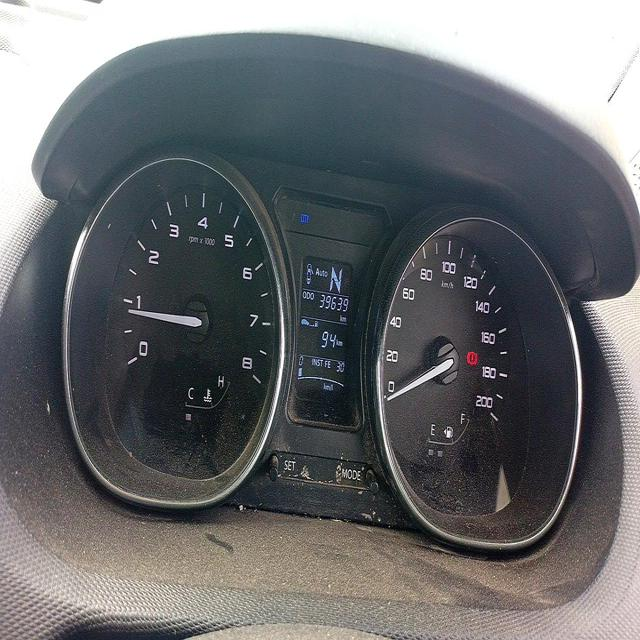odometer: (318, 289, 349, 312)
